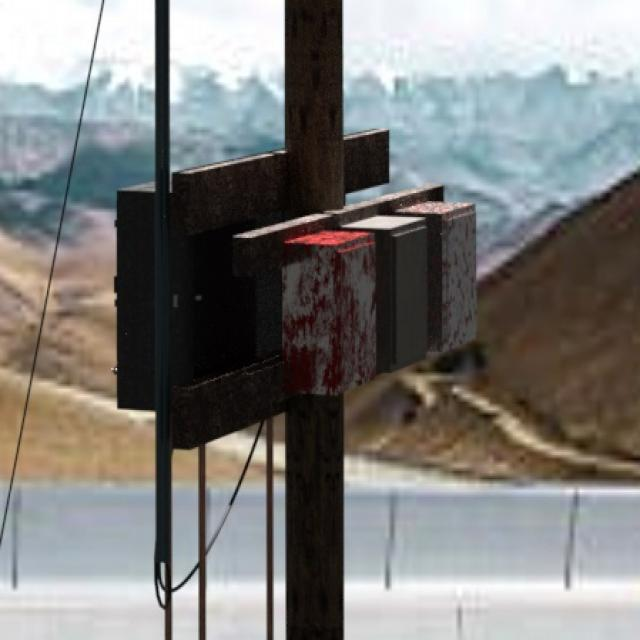crossarm: (172, 111, 391, 238), (171, 351, 285, 450)
pole: (282, 0, 345, 626)
transformer: (279, 193, 475, 400), (115, 187, 158, 413)
